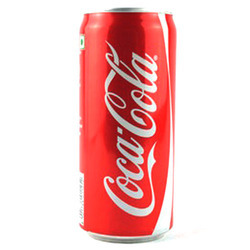can: (76, 6, 176, 250)
